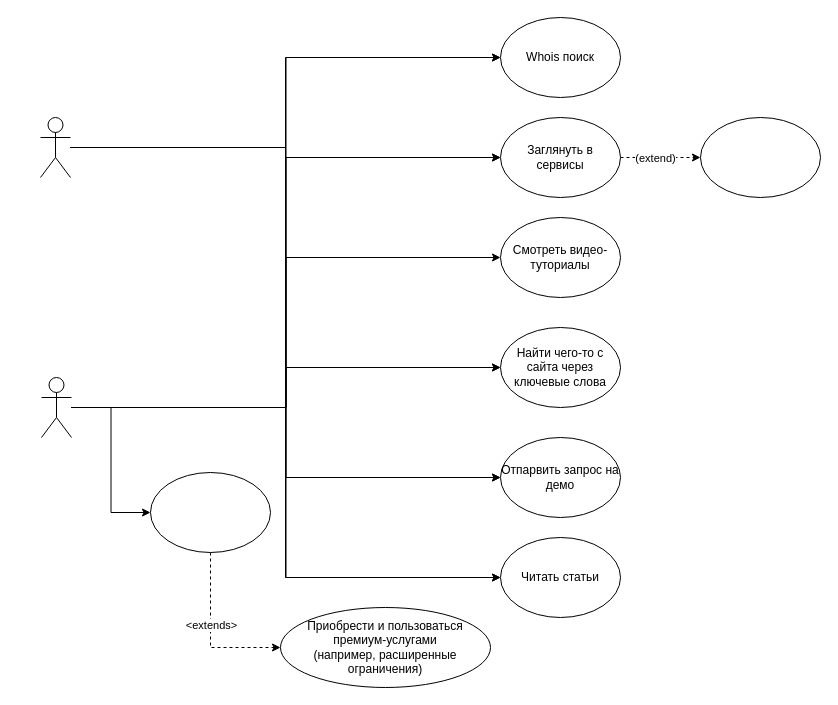
Some shapes in this 838 by 705 pixel diagram are drawn without their labels. Each missing label, with the box of its shape:
Войти в аккаунт: (150, 472, 270, 552)
Гость: (40, 116, 70, 178)
Интеграции с внешними сервисами: (700, 116, 820, 198)
Пользователь: (40, 376, 72, 438)
